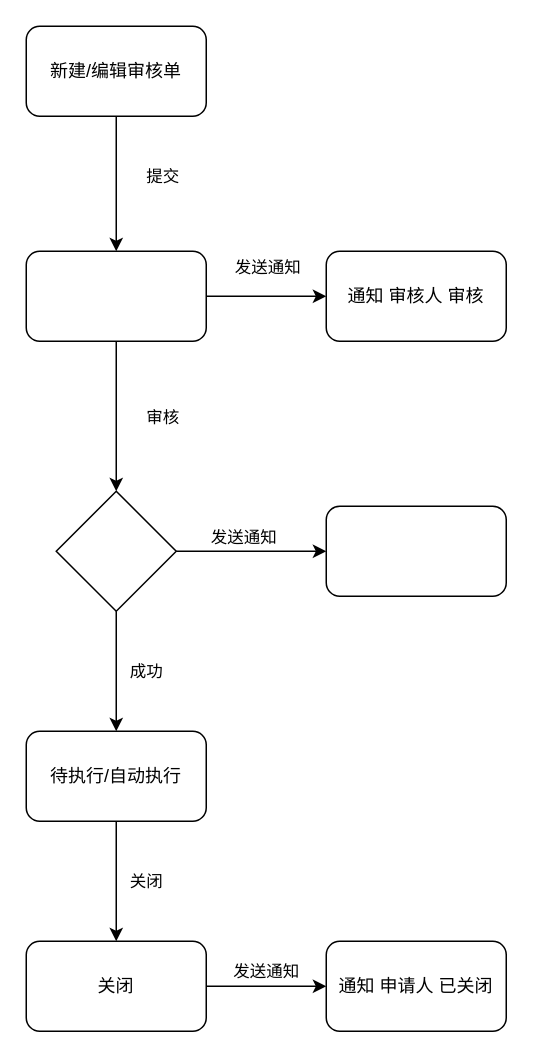
Image size: 533x1058. Some labels were removed from this diagram. The centre of each missing label's shape, as x and y in pixels:
"待审核" goes at point (115, 295).
"通知申请人 审核结果" goes at point (415, 550).
